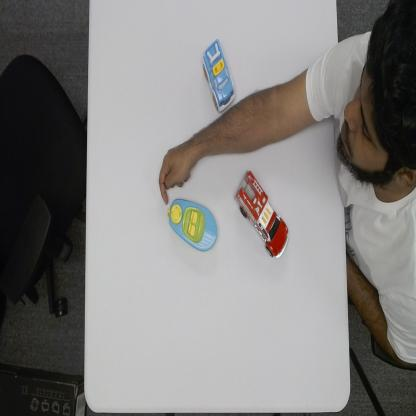Arm: (194, 68, 337, 164)
Boat: (165, 197, 219, 252)
Car: (202, 36, 236, 114)
Firetruck: (232, 169, 291, 261)
Hand: (159, 136, 199, 204)
